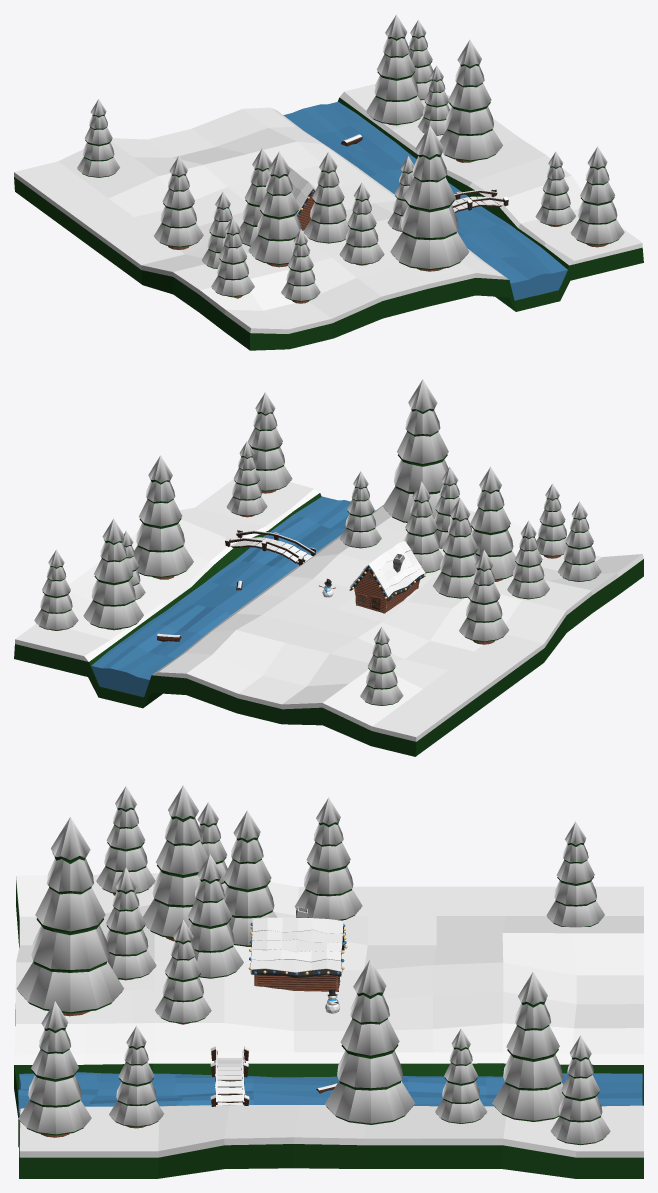
The model's file is snowy_cabin_game_assets.glb.
The picture shows the model from 3 angles, top to bottom: view 1: azimuth 30°, elevation 25°; view 2: azimuth 150°, elevation 25°; view 3: azimuth 270°, elevation 25°; orthographic projection. The views are drawn at different scales.
Parts seen in each view (by area): view 1: Log.001; view 2: Log.001; view 3: Log.001.
Part boxes in pixels (box(x1,y1,x2,y2)): Log.001: box(14, 14, 643, 350); Log.001: box(14, 379, 643, 756); Log.001: box(14, 785, 643, 1178).
Size of the model in its own units: 63.34 by 28.33 by 62.95.
Materials: 10 (10 with a texture image).
